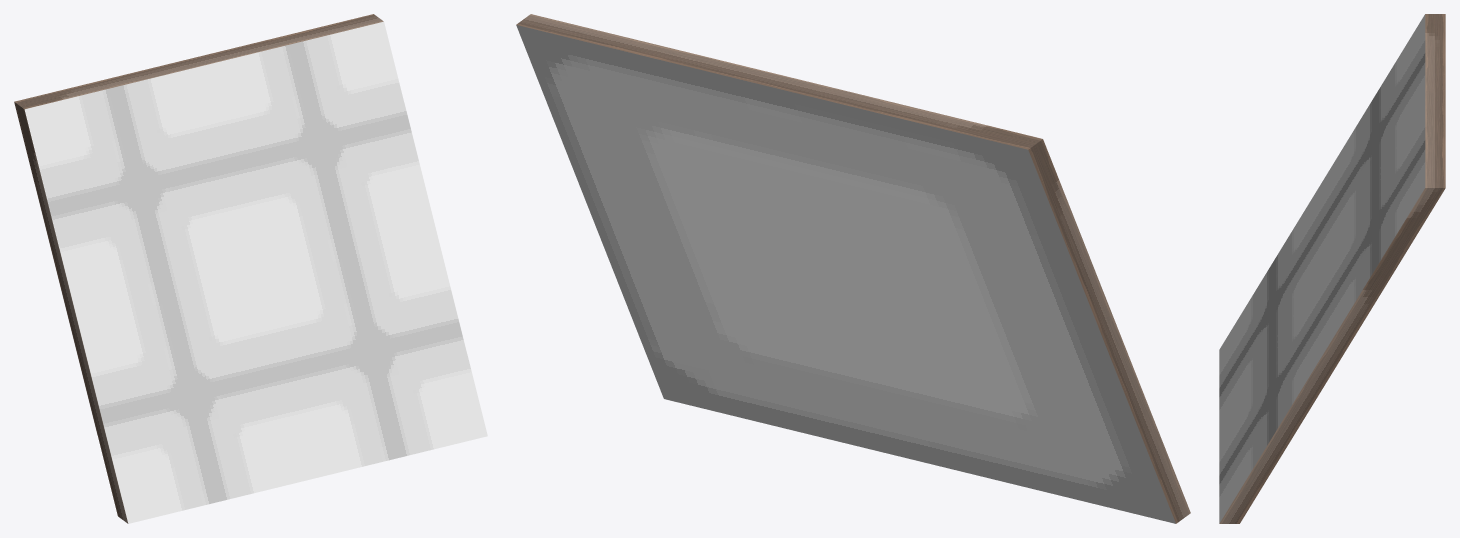
Rendered from SM_Roof_02.fbx.
The picture shows the model from 3 angles, left to right: view 1: azimuth 30°, elevation 25°; view 2: azimuth 150°, elevation 25°; view 3: azimuth 270°, elevation 25°; orthographic projection. The views are drawn at different scales.
Parts seen in each view (by area): view 1: SM_Roof_02_LOD0; view 2: SM_Roof_02_LOD0; view 3: SM_Roof_02_LOD0.
Part boxes in pixels (x1,y1,x2,y2): SM_Roof_02_LOD0: (14,14,487,523); SM_Roof_02_LOD0: (516,14,1190,523); SM_Roof_02_LOD0: (1219,14,1445,523).
Bounding box in the file's own units: 1000 × 550 × 900.
